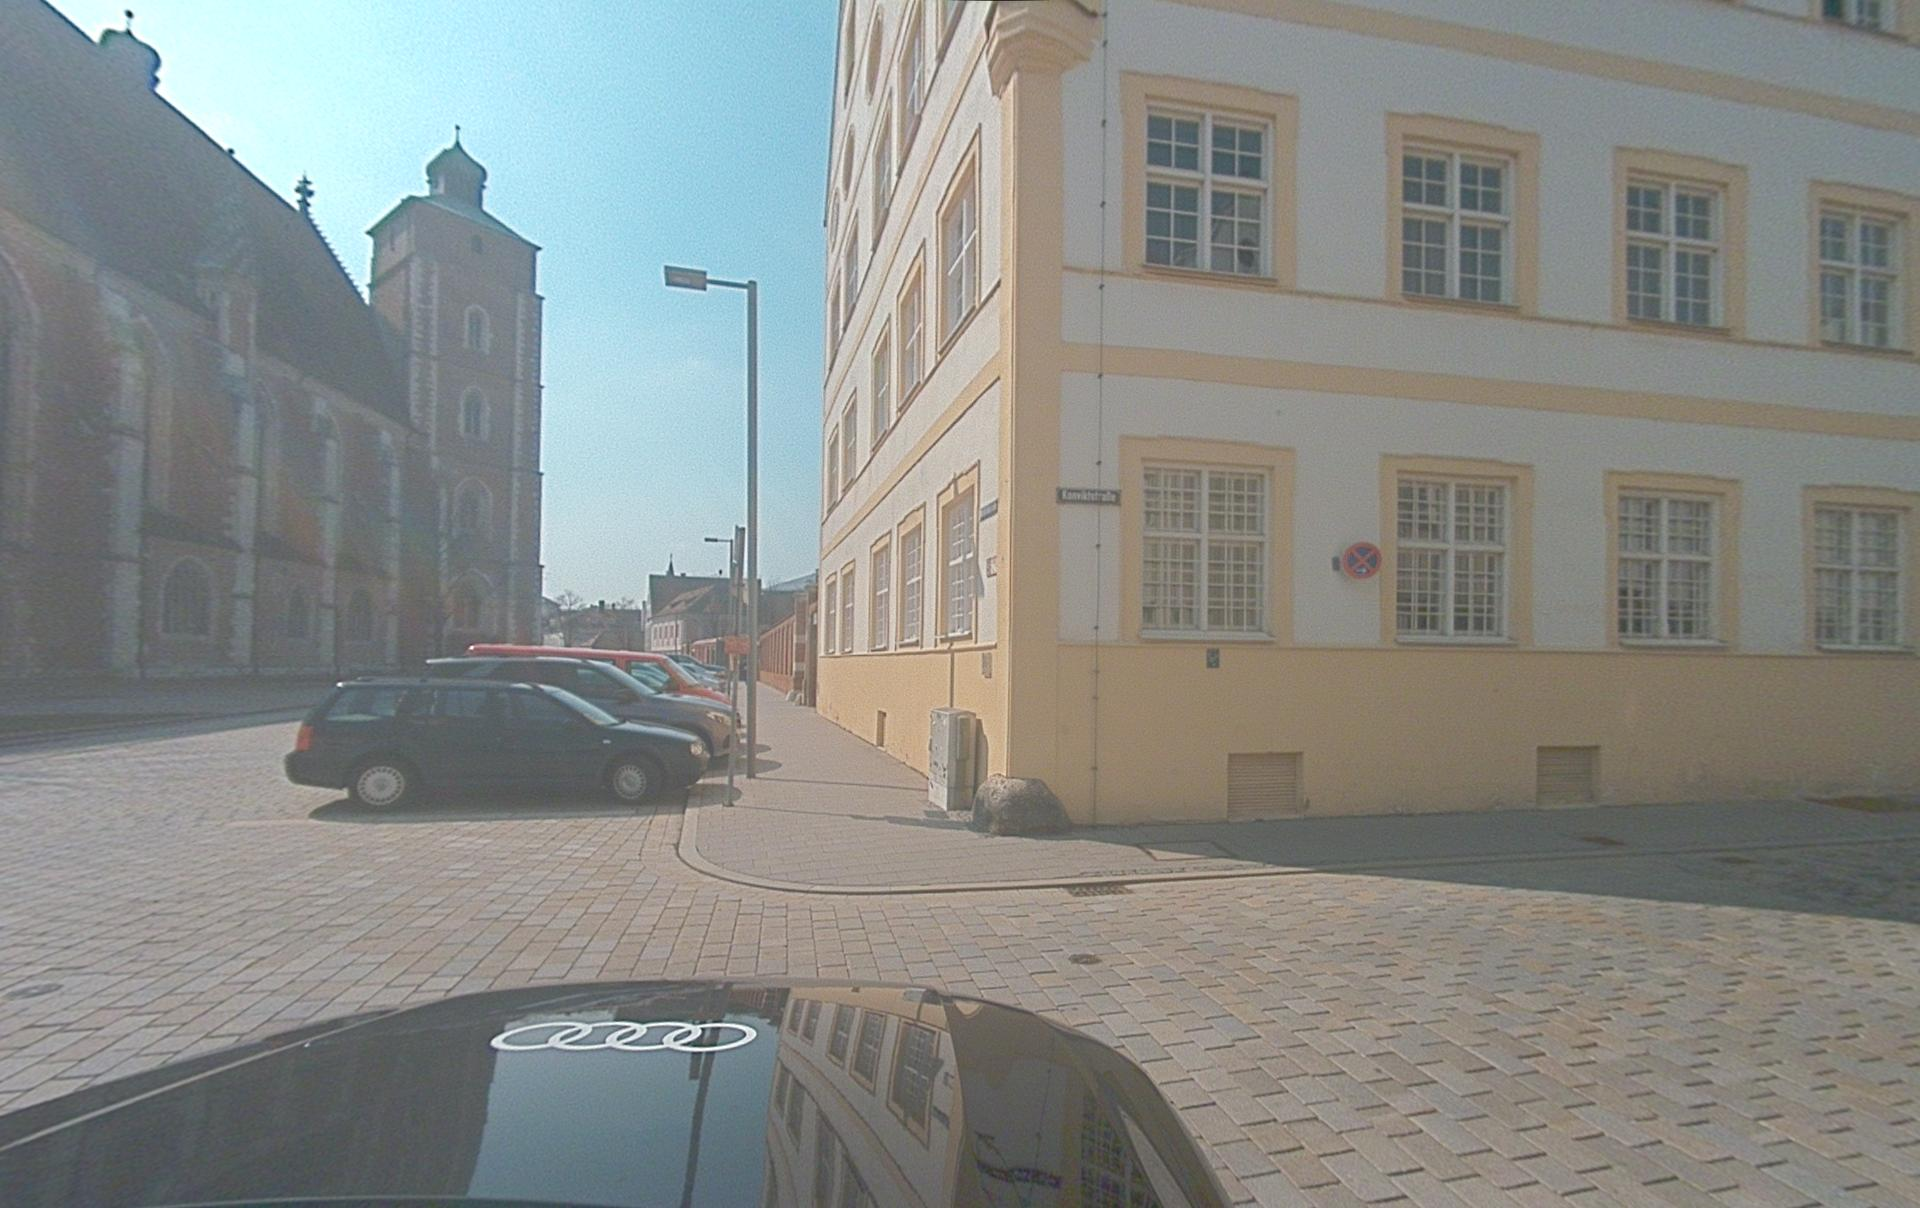car: (1, 978, 1235, 1207), (284, 678, 711, 810), (422, 654, 740, 760), (465, 643, 733, 710)
